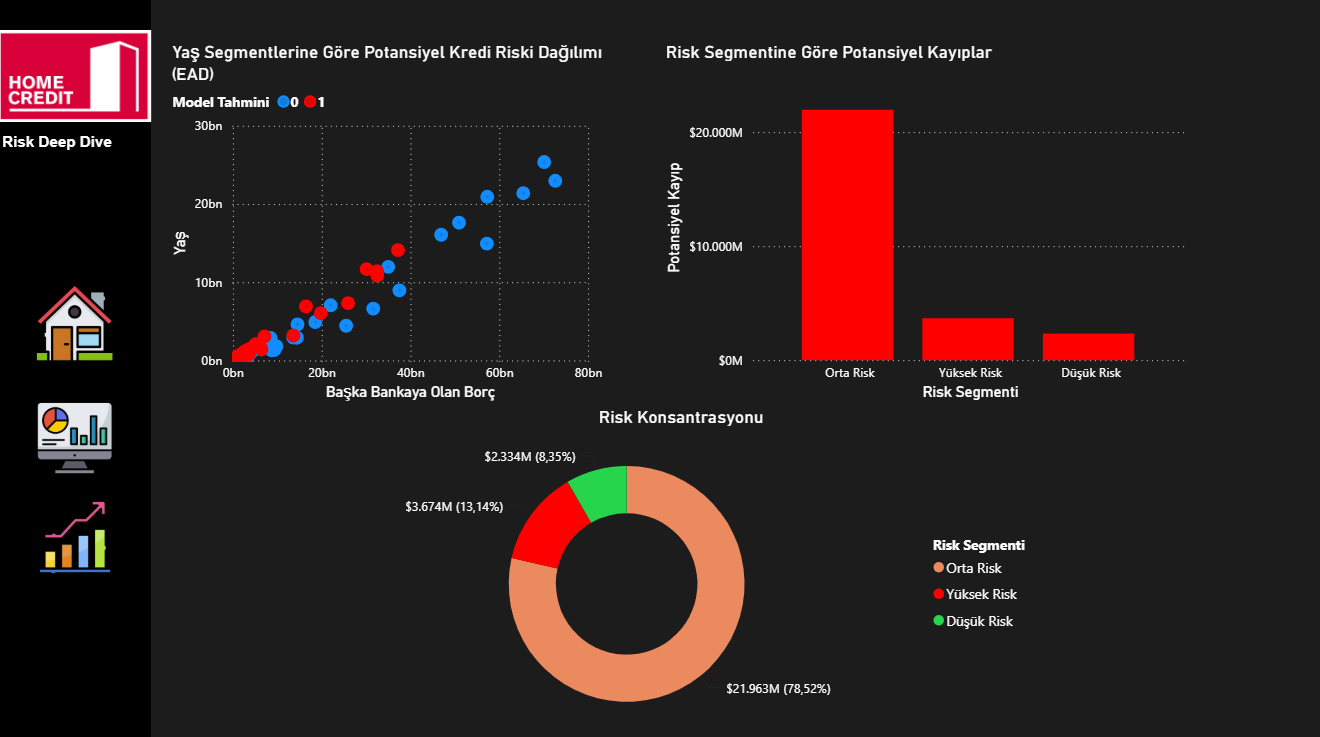

This screenshot's page, from the dashboard's own definition file:
{"tool":"powerbi","page":{"name":"Risk Deep Dive","canvas":[1280,720],"ordinal":1},"visuals":[{"type":"shape","box":[0,0,148.6,719.9],"z":0},{"type":"image","box":[36.1,275.6,77.9,80.8],"z":1000},{"type":"image","box":[36.1,356.4,77.9,141.4],"z":2000},{"type":"scatterChart","title":"Yaş Segmentlerine Göre Potansiyel Kredi Riski Dağılımı (EAD)","fields":{"X":["Sum(powerbi_kredi_risk_verisi.baska_banka_toplam_borc)"],"Y":["Sum(powerbi_kredi_risk_verisi.istenen_kredi)"],"Series":["powerbi_kredi_risk_verisi.Model_Tahmini"],"Category":["powerbi_kredi_risk_verisi.yillik_gelir"]},"box":[164.5,43.3,425.6,352],"z":3000},{"type":"textbox","box":[0,127,164.5,148.6],"z":4000},{"type":"image","box":[0,0,148.6,154.4],"z":5000},{"type":"clusteredColumnChart","title":"Risk Segmentine Göre Potansiyel Kayıplar","fields":{"Category":["powerbi_kredi_risk_verisi.Risk_Segmenti"],"Y":["powerbi_kredi_risk_verisi.Gerceklesen Batik"]},"box":[640.6,43.3,513.6,352],"z":6000},{"type":"donutChart","title":"Risk Konsantrasyonu","fields":{"Category":["powerbi_kredi_risk_verisi.Risk_Segmenti"],"Y":["powerbi_kredi_risk_verisi.Gerceklesen Batik"]},"box":[307.3,395.3,705.5,324.6],"z":7000},{"type":"image","box":[36.1,486.2,77.9,72.1],"z":7001}]}

Visuals, with their boxes on the page's 1280x720 design canvas (x1, y1, x2, y2). These are canvas units, not pixel positions in the 1320x737 screenshot, which may show the page scaled, cropped or inside an application window:
shape: left=0, top=0, right=149, bottom=720
image: left=36, top=276, right=114, bottom=356
image: left=36, top=356, right=114, bottom=498
"Yaş Segmentlerine Göre Potansiyel Kredi Riski Dağılımı (EAD)" scatterChart: left=164, top=43, right=590, bottom=395
textbox: left=0, top=127, right=164, bottom=276
image: left=0, top=0, right=149, bottom=154
"Risk Segmentine Göre Potansiyel Kayıplar" clusteredColumnChart: left=641, top=43, right=1154, bottom=395
"Risk Konsantrasyonu" donutChart: left=307, top=395, right=1013, bottom=720
image: left=36, top=486, right=114, bottom=558
